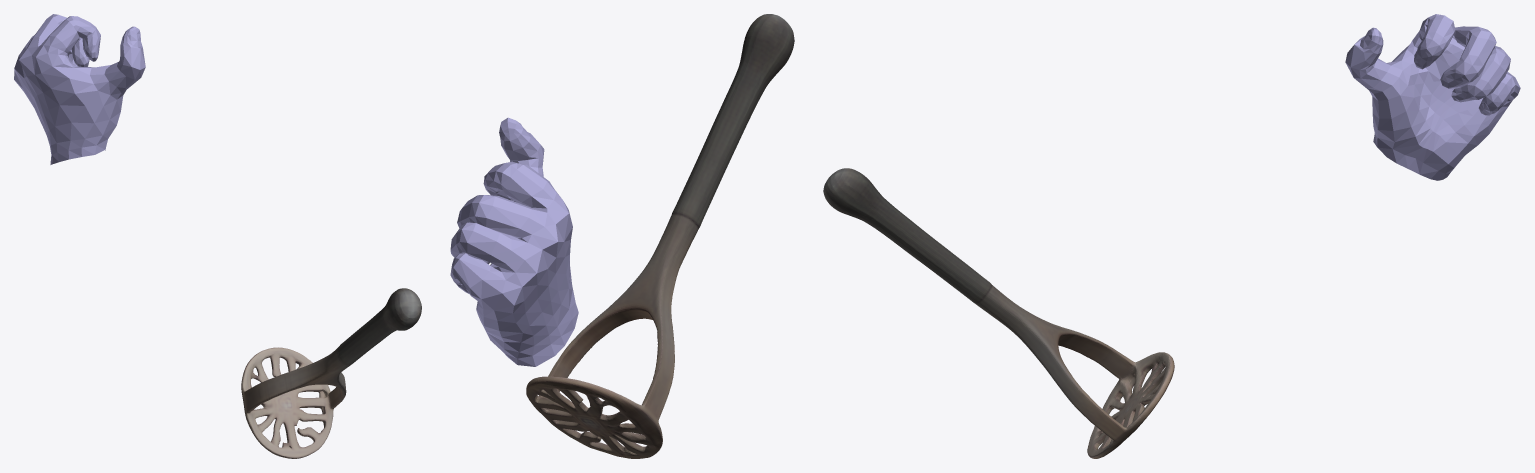
File: frame_0001_source_000001_hand_object.glb
The picture shows the model from 3 angles, left to right: view 1: azimuth 30°, elevation 25°; view 2: azimuth 150°, elevation 25°; view 3: azimuth 270°, elevation 25°; orthographic projection. The views are drawn at different scales.
Visible parts, largest first — view 1: world; view 2: world; view 3: world.
Part boxes in pixels (x1,y1,x2,y2): world: (14,14,421,458); world: (450,14,794,458); world: (823,14,1520,458).
Bounding box in the file's own units: 0.1384 × 0.2821 × 0.446.
